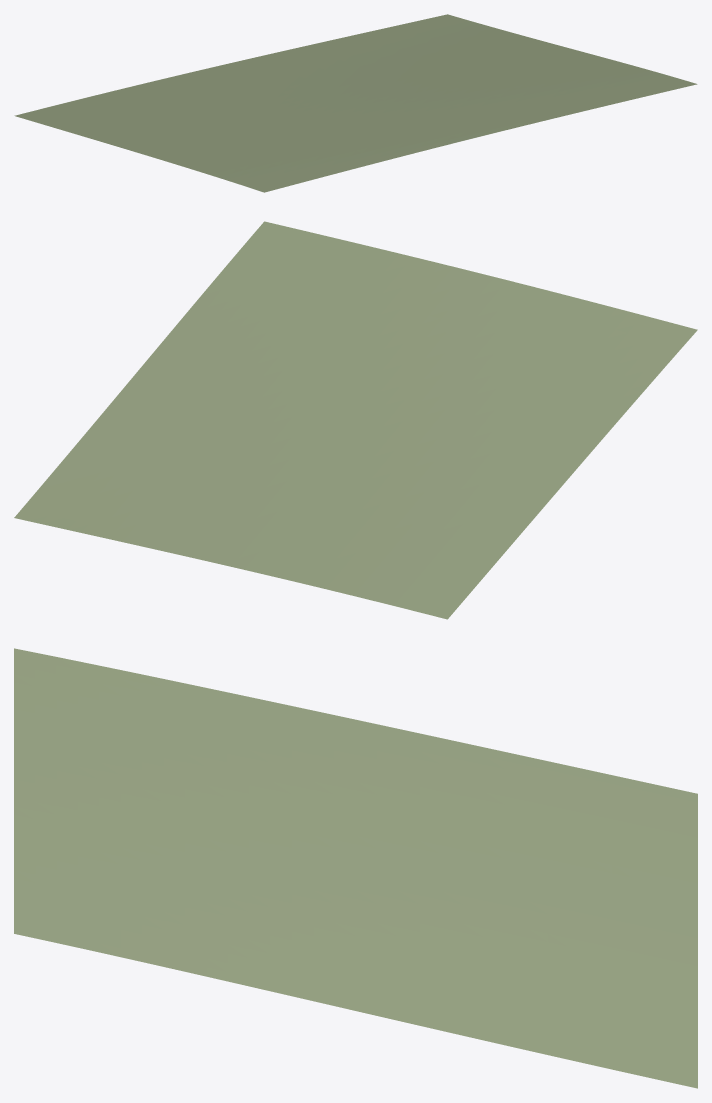
The model's file is expanse-29-5.glb.
The picture shows the model from 3 angles, top to bottom: view 1: azimuth 30°, elevation 25°; view 2: azimuth 150°, elevation 25°; view 3: azimuth 270°, elevation 25°; orthographic projection. The views are drawn at different scales.
Visible parts, largest first — view 1: expanse-29-5; view 2: expanse-29-5; view 3: expanse-29-5.
Part boxes in pixels (<box>): expanse-29-5: <box>14,14,697,192</box>; expanse-29-5: <box>14,221,697,619</box>; expanse-29-5: <box>14,648,697,1088</box>.
Size of the model in its own units: 256 by 64.43 by 256.
